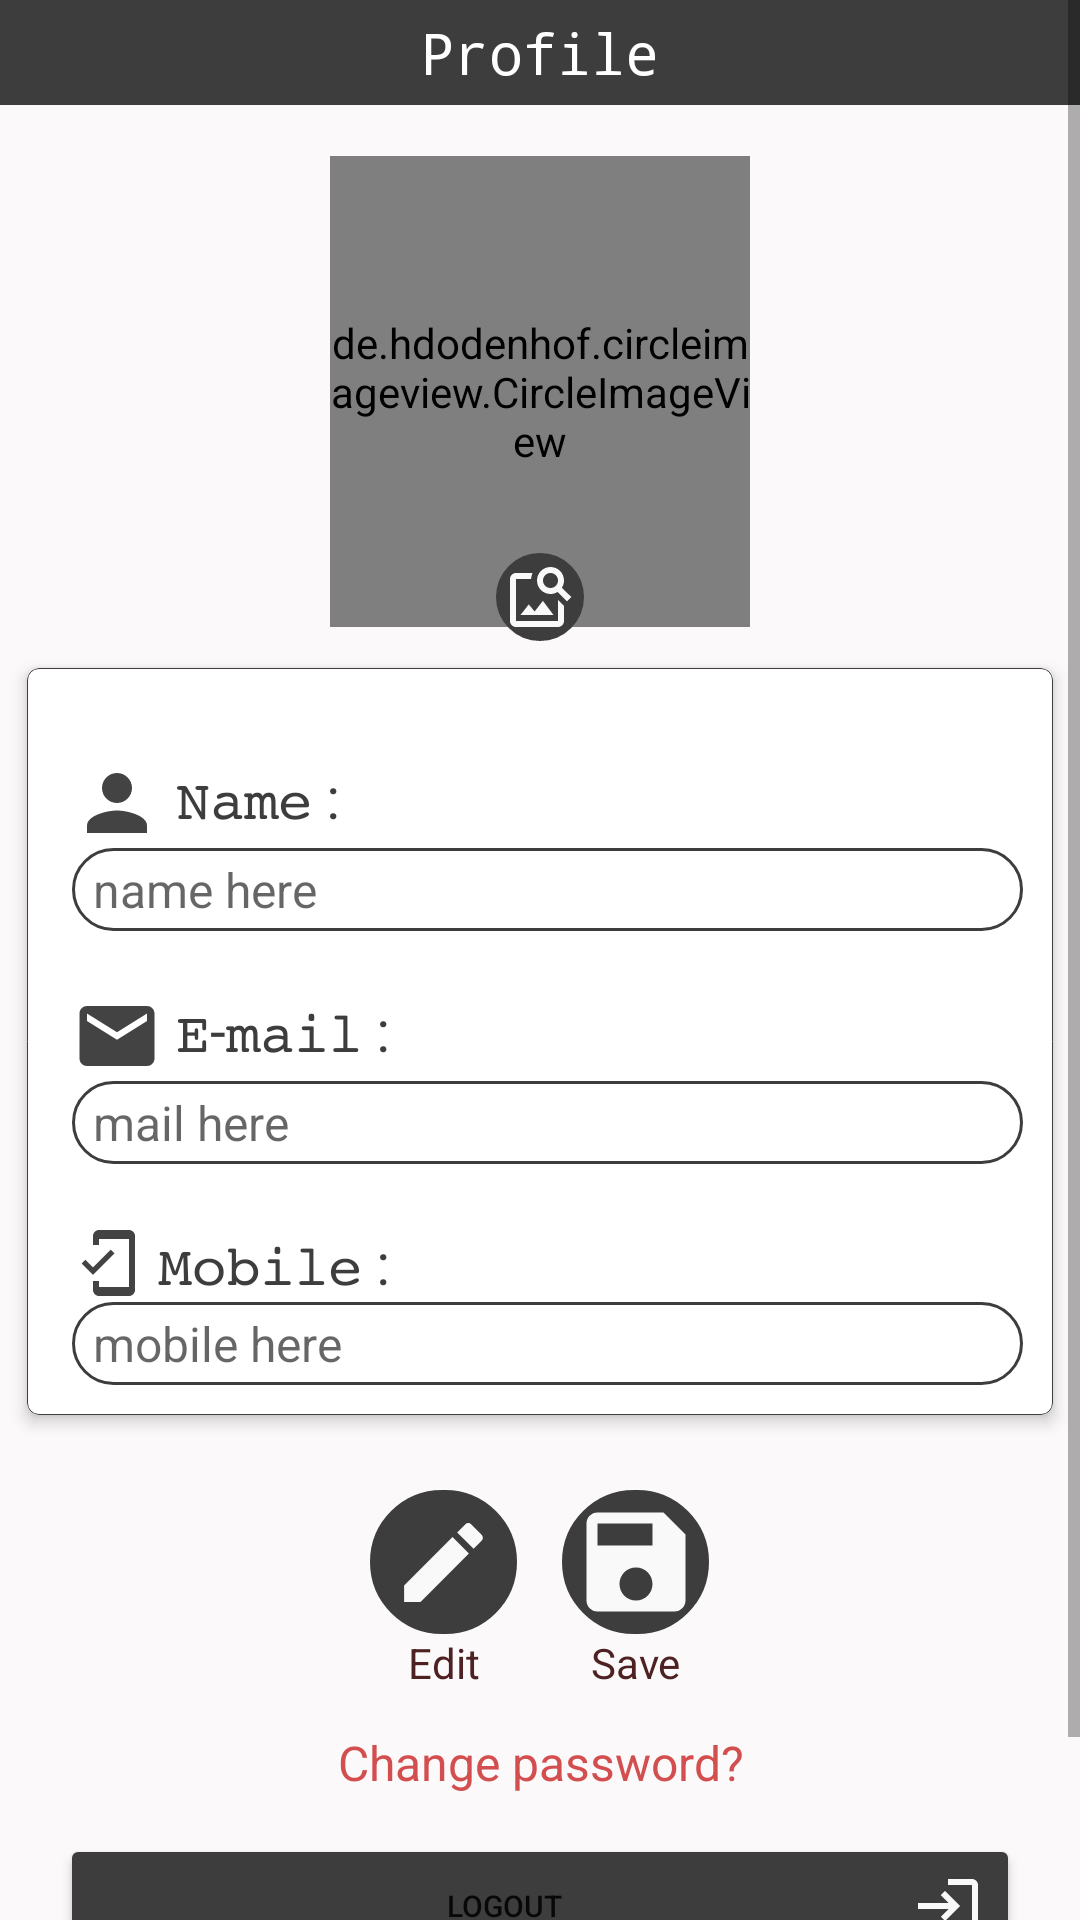

Locate icon controls on the screen. Image size 1080 x 1920, boxes as (x1, y1, x2, y2).
search: (496, 553, 584, 641)
